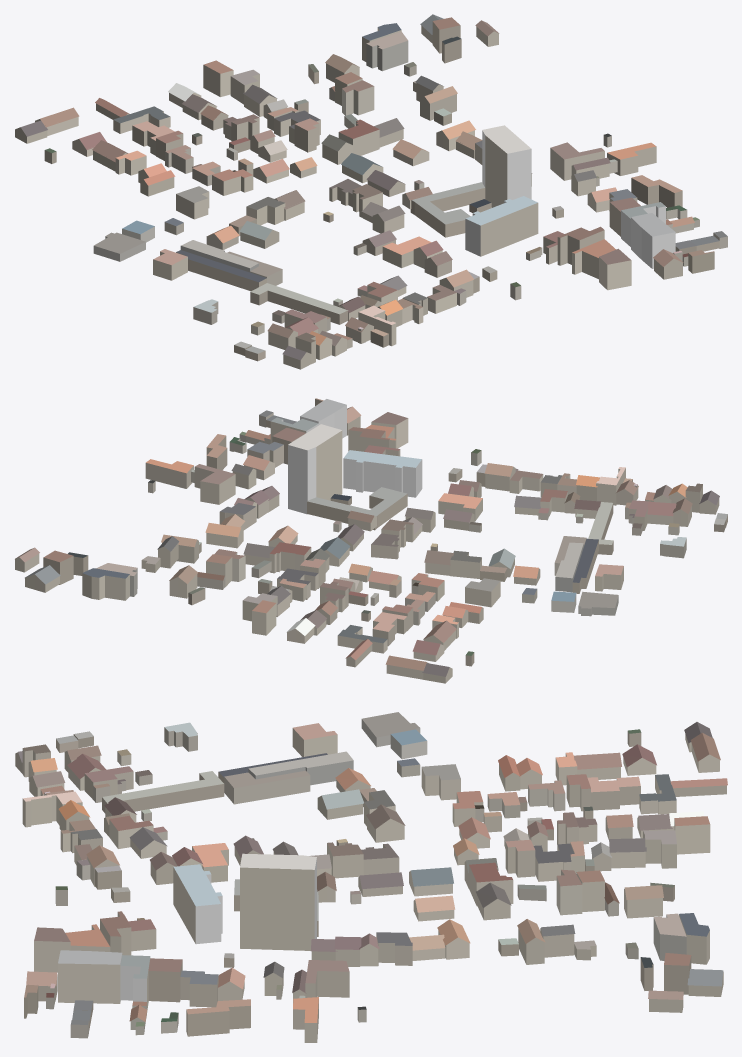
3 renders of one model, top to bottom at view 1: azimuth 30°, elevation 25°; view 2: azimuth 150°, elevation 25°; view 3: azimuth 270°, elevation 25°, orthographic. The views are drawn at different scales.
Visible parts, largest first — view 1: tuile; view 2: tuile; view 3: tuile.
Boxes of the visible parts, left/top/right/bottom form: tuile: left=15, top=14, right=727, bottom=369; tuile: left=15, top=398, right=727, bottom=683; tuile: left=15, top=712, right=727, bottom=1042.
Bounding box in the file's own units: 268 × 38.33 × 260.
